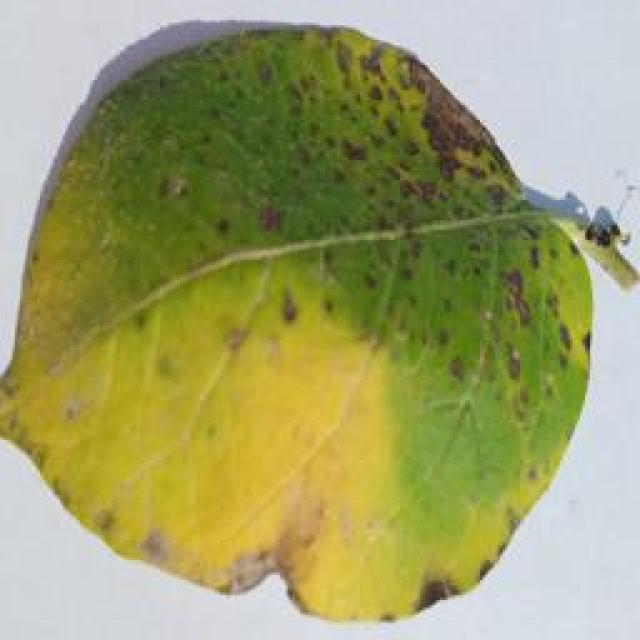Potato_Early_Blight: (2, 12, 598, 640)
